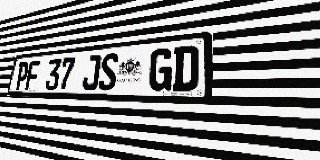3: (45, 58, 62, 90)
7: (57, 57, 76, 90)
D: (172, 45, 199, 91)
F: (25, 60, 41, 90)
G: (148, 47, 173, 91)
J: (81, 54, 102, 91)
P: (14, 61, 30, 90)
S: (98, 53, 119, 91)
